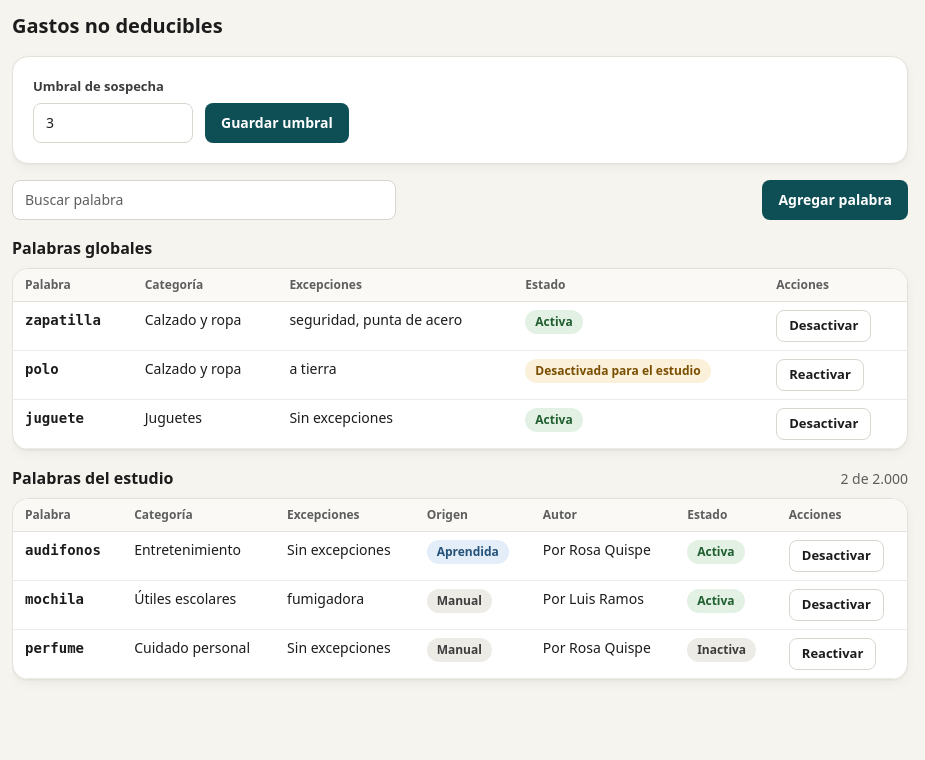
it: <GastosEstudio /> · umbral (R-11, CA-10) › subir el umbral a 9 manda PUT {umbral, version}, anuncia «Umbral guardado.» y vuelve a leer
The width and height of the screenshot is (925, 760).
Replace the text in the number field labelled "Umbral de sospecha" with "9" at (113, 122), box [33,102,193,142]
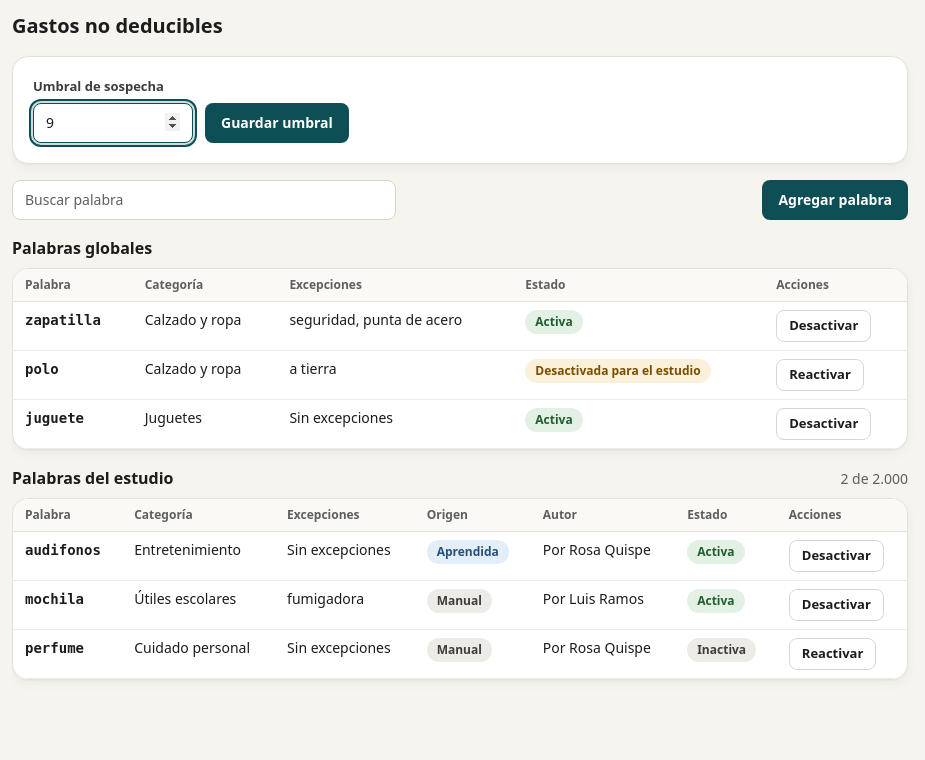
Click the button "Guardar umbral".
click(277, 122)  # box [205,102,349,142]
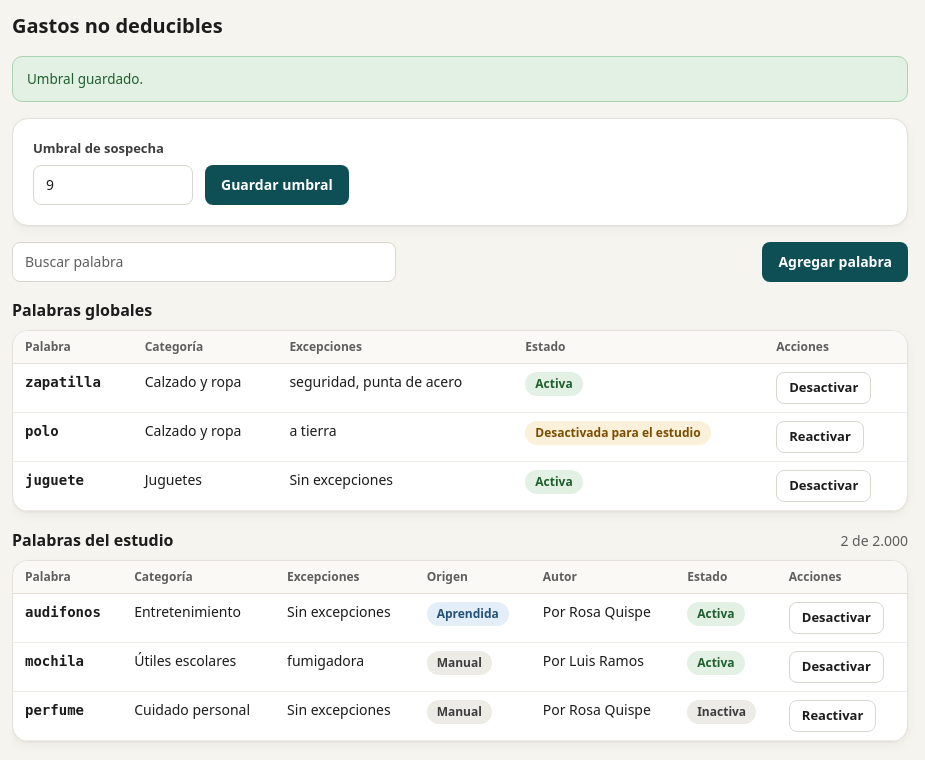
Check: the message reads "Umbral guardado.", box [27,70,143,88]
